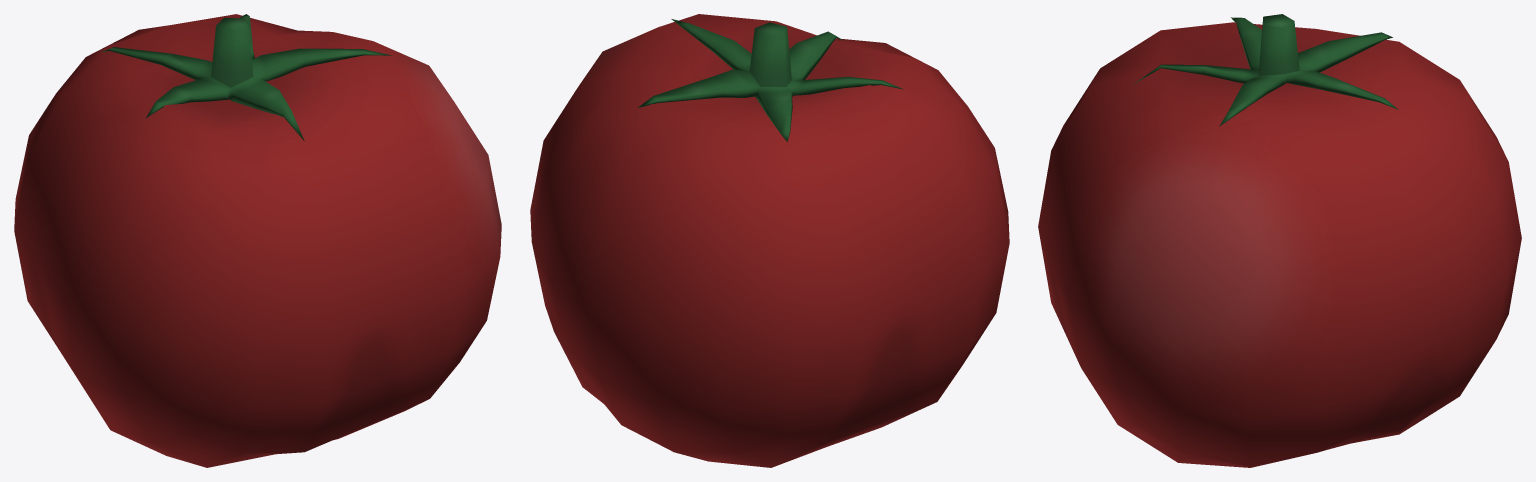
File: Tomato.fbx
The picture shows the model from 3 angles, left to right: view 1: azimuth 30°, elevation 25°; view 2: azimuth 150°, elevation 25°; view 3: azimuth 270°, elevation 25°; orthographic projection.
Parts seen in each view (by area): view 1: Cubo; view 2: Cubo; view 3: Cubo.
Boxes of the visible parts, box(x1,y1,x2,y2) form: Cubo: box(14, 14, 501, 467); Cubo: box(530, 14, 1009, 467); Cubo: box(1038, 14, 1521, 467).
Size of the model in its own units: 218 by 197 by 218.
